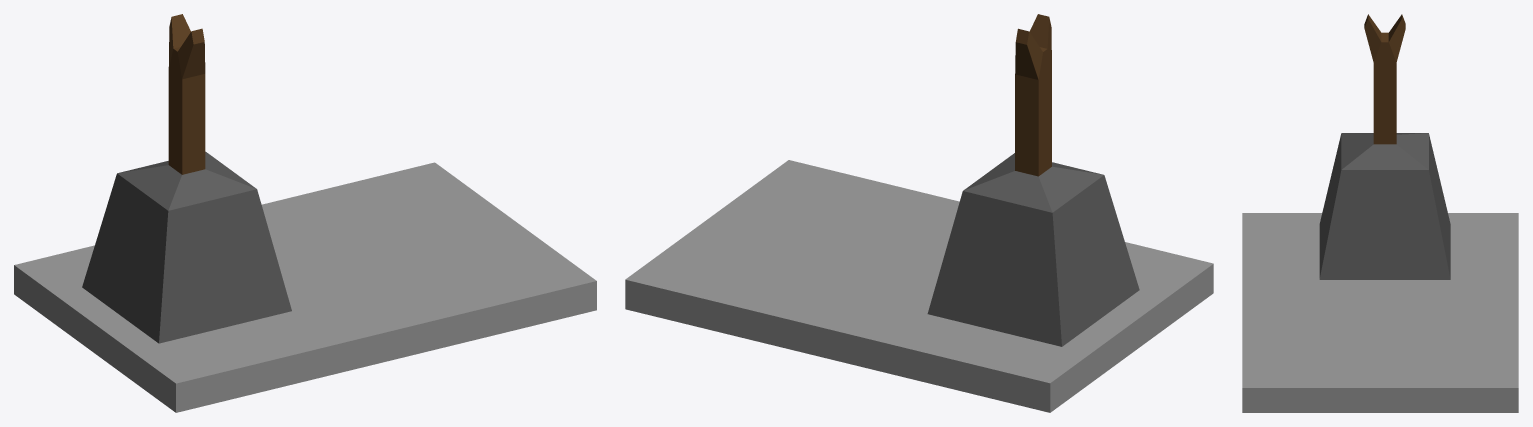
File: HarpoonStation1.fbx
The picture shows the model from 3 angles, left to right: view 1: azimuth 30°, elevation 25°; view 2: azimuth 150°, elevation 25°; view 3: azimuth 270°, elevation 25°; orthographic projection. The views are drawn at different scales.
Parts seen in each view (by area): view 1: Harpoon Station; view 2: Harpoon Station; view 3: Harpoon Station.
Part boxes in pixels (x1,y1,x2,y2): Harpoon Station: (14,14,596,412); Harpoon Station: (625,14,1213,412); Harpoon Station: (1242,14,1518,412).
Bounding box in the file's own units: 3 × 2.08 × 2.
Materials: 1 (1 with a texture image).
